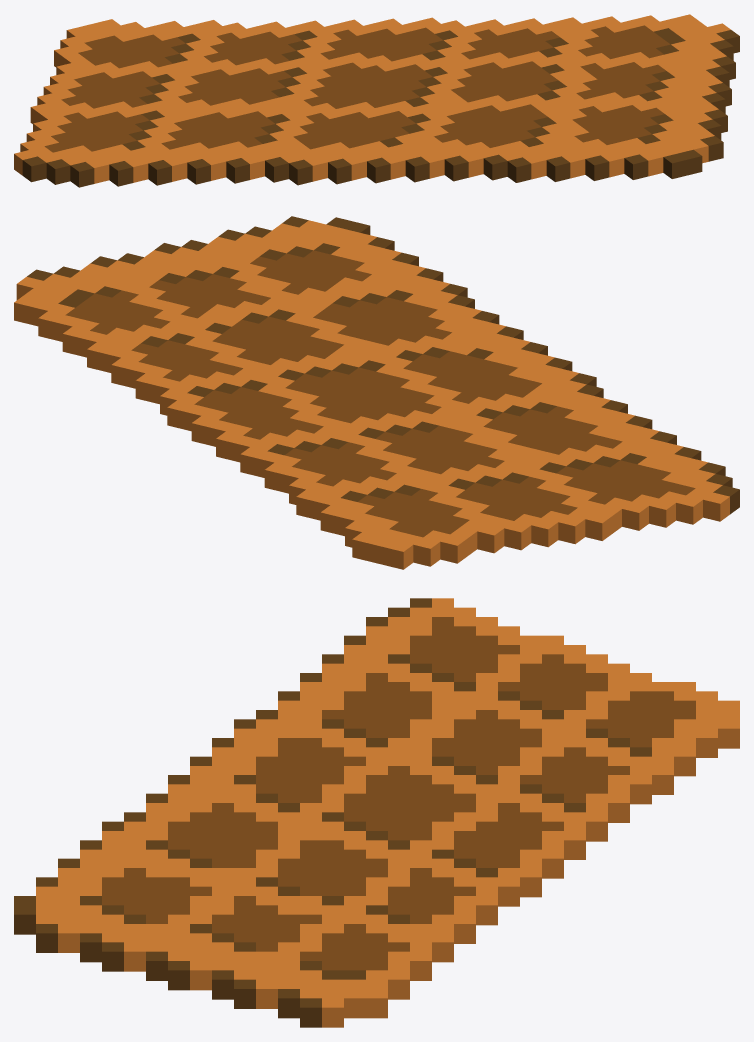
The model's file is Chocolad.obj.
3 renders of one model, top to bottom at view 1: azimuth 30°, elevation 25°; view 2: azimuth 150°, elevation 25°; view 3: azimuth 270°, elevation 25°, orthographic. The views are drawn at different scales.
Parts seen in each view (by area): view 1: Chocolad; view 2: Chocolad; view 3: Chocolad.
Boxes of the visible parts, x1,y1,x2,y2 form: Chocolad: [14, 14, 739, 187]; Chocolad: [14, 216, 739, 569]; Chocolad: [14, 598, 739, 1027].
Bounding box in the file's own units: 44 × 1 × 33.
Materials: 1 (1 with a texture image).
